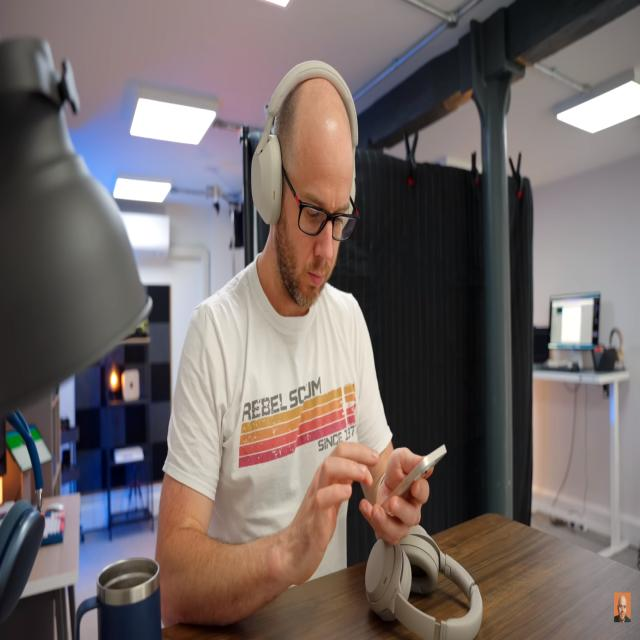Headphone: (248, 56, 360, 230), (362, 525, 485, 640)
